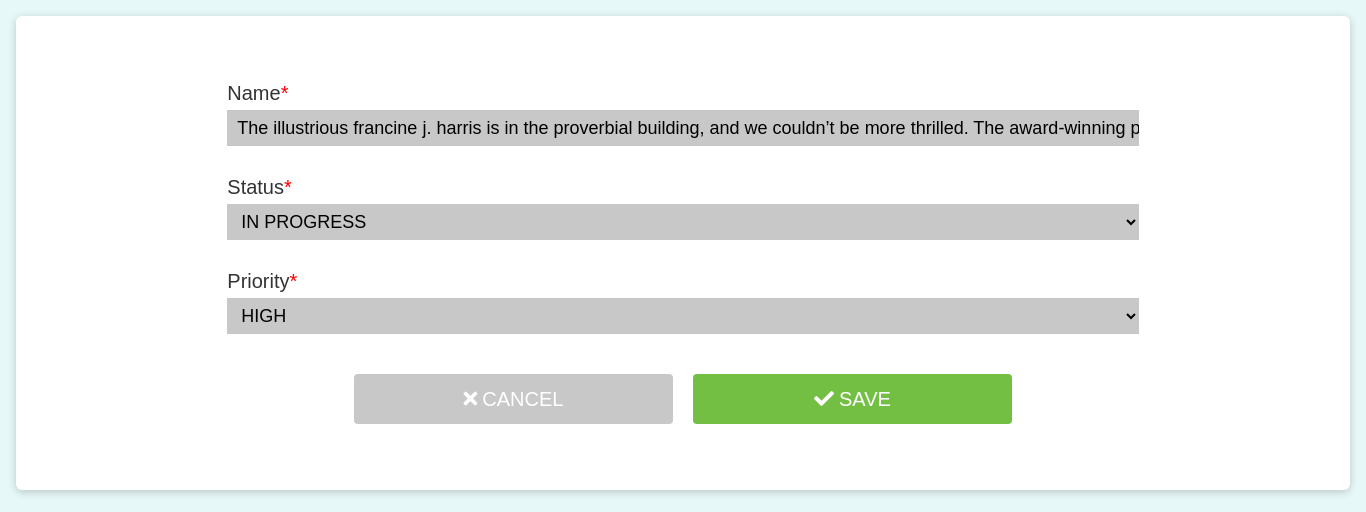
TaskForm Testing › Have a check at invalid message
Click the button "SAVE" at [852, 399], box [693, 374, 1012, 424]
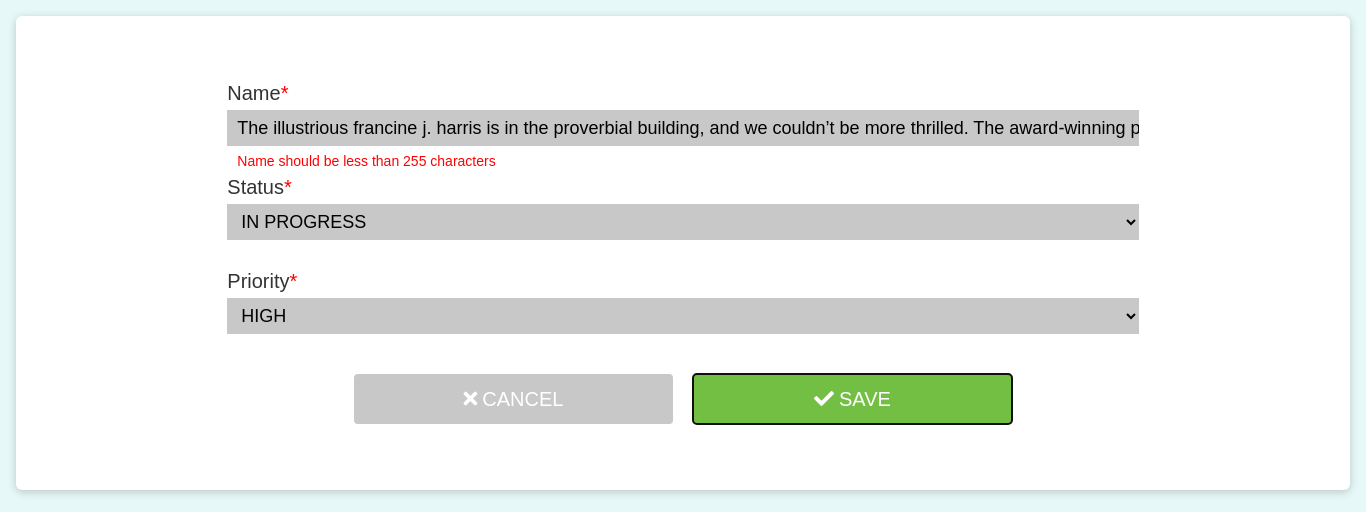
Check: the text "Name should be less than 255 characters" is shown, box [237, 153, 496, 169]
